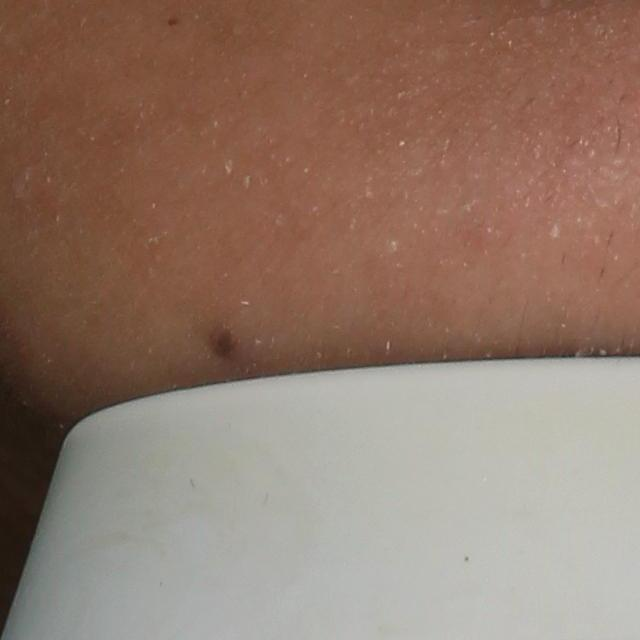nevus: (206, 320, 244, 362)
